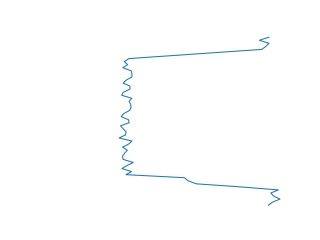distributaryChannelFill: (115, 35, 285, 208)
